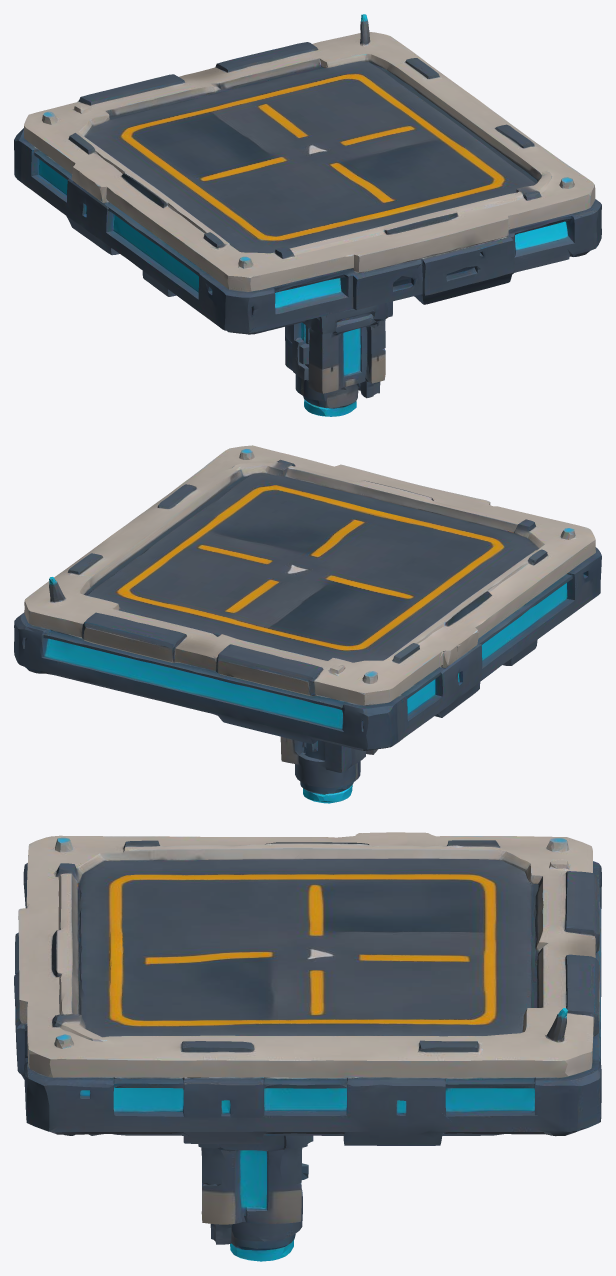
3 views of the same model, one above another, from view 1: azimuth 30°, elevation 25°; view 2: azimuth 150°, elevation 25°; view 3: azimuth 270°, elevation 25° (orthographic). The views are drawn at different scales.
Parts seen in each view (by area): view 1: Mesh; view 2: Mesh; view 3: Mesh.
Part boxes in pixels (x1,y1,x2,y2): Mesh: [14, 14, 601, 416]; Mesh: [14, 445, 601, 803]; Mesh: [14, 832, 601, 1261].
Bounding box in the file's own units: 1.78 × 1.22 × 1.9.
1 material, 1 textured.
